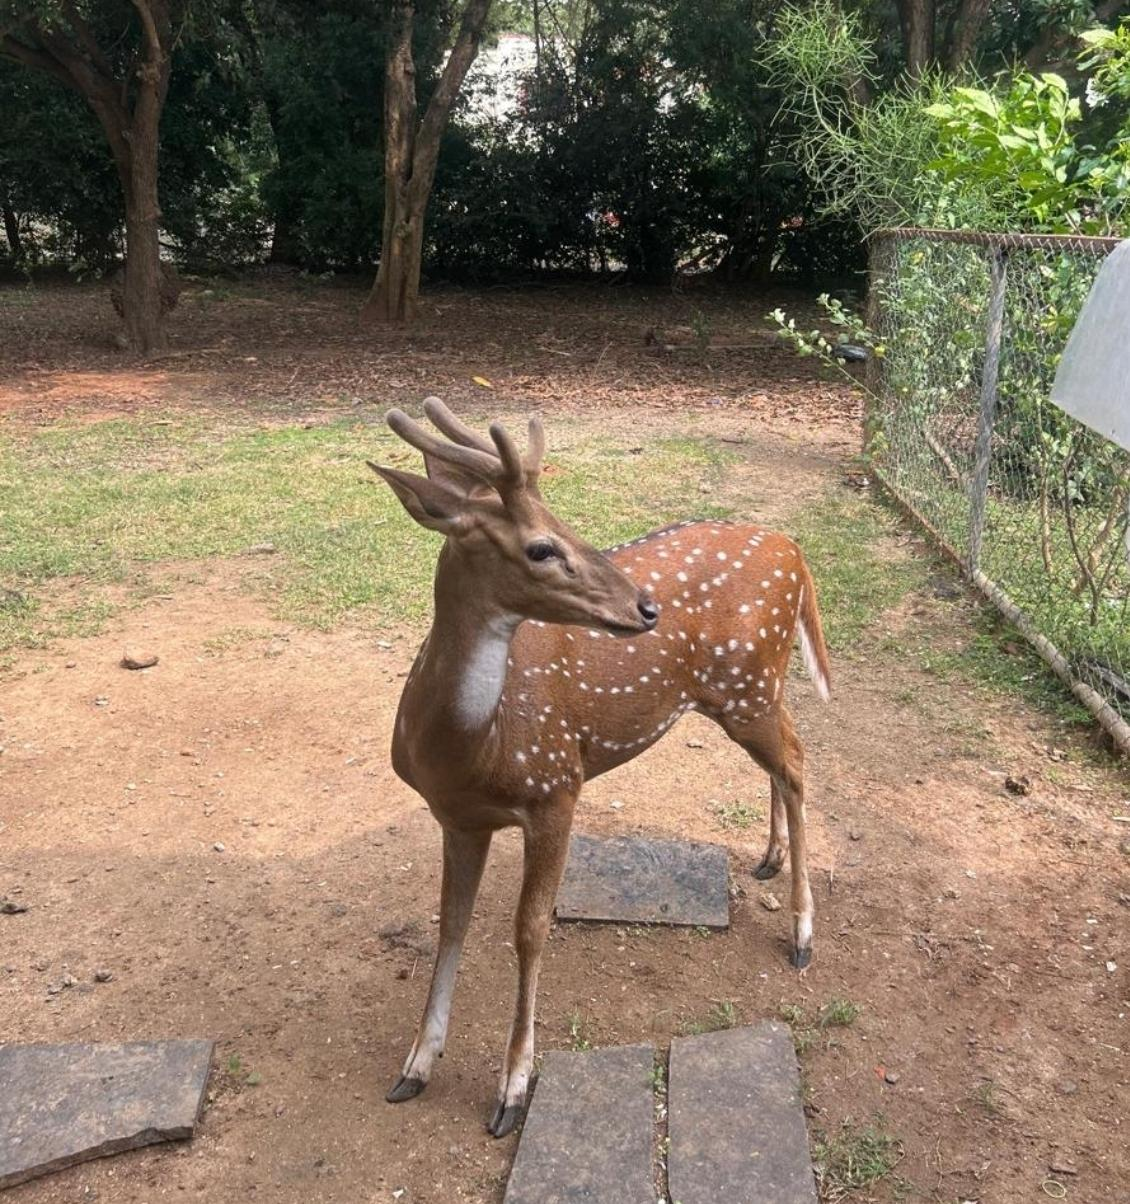Deer: (370, 400, 828, 1136)
